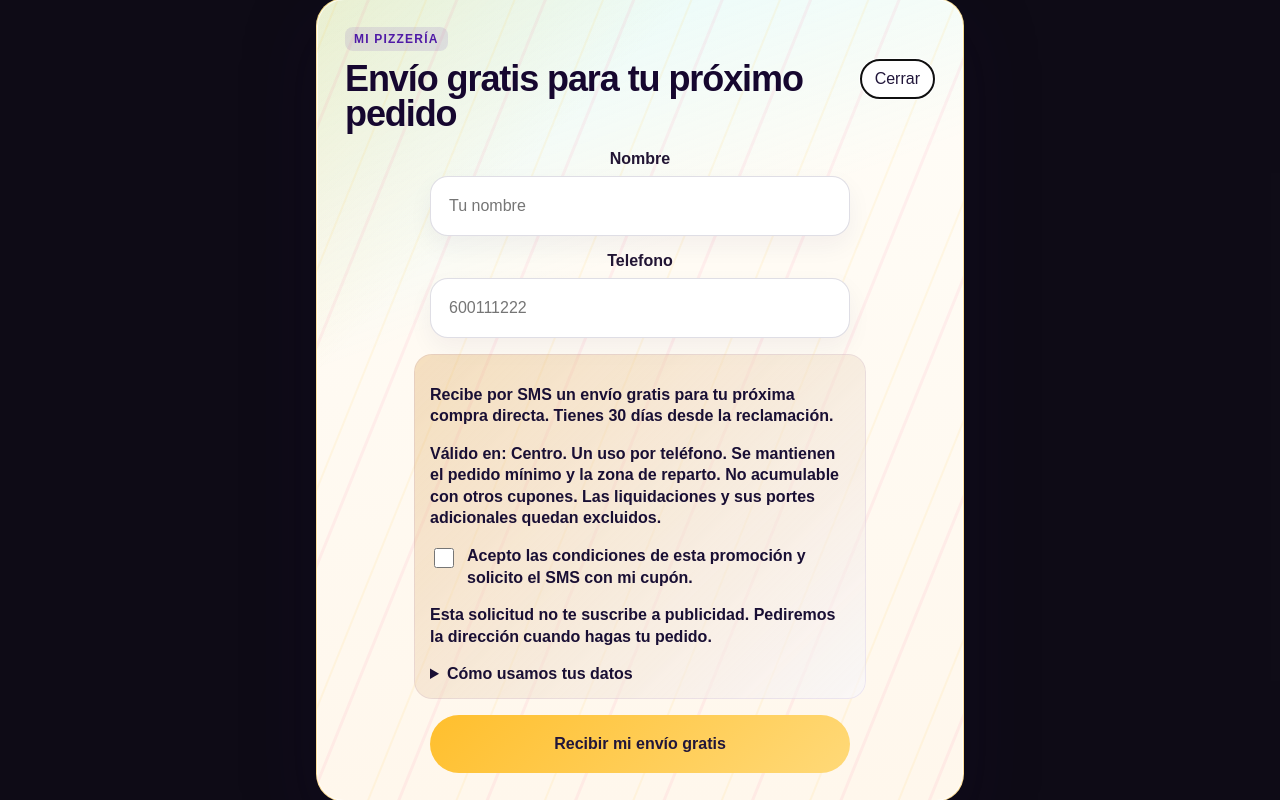
confirmation distinguishes the actual SMS outcome: {"sent":true,"sentNow":false,"status":"delivered"}
The image size is (1280, 800).
Type "Ana" into the field labelled "Nombre".
click(640, 206); type("Ana")  # box [430,176,850,236]
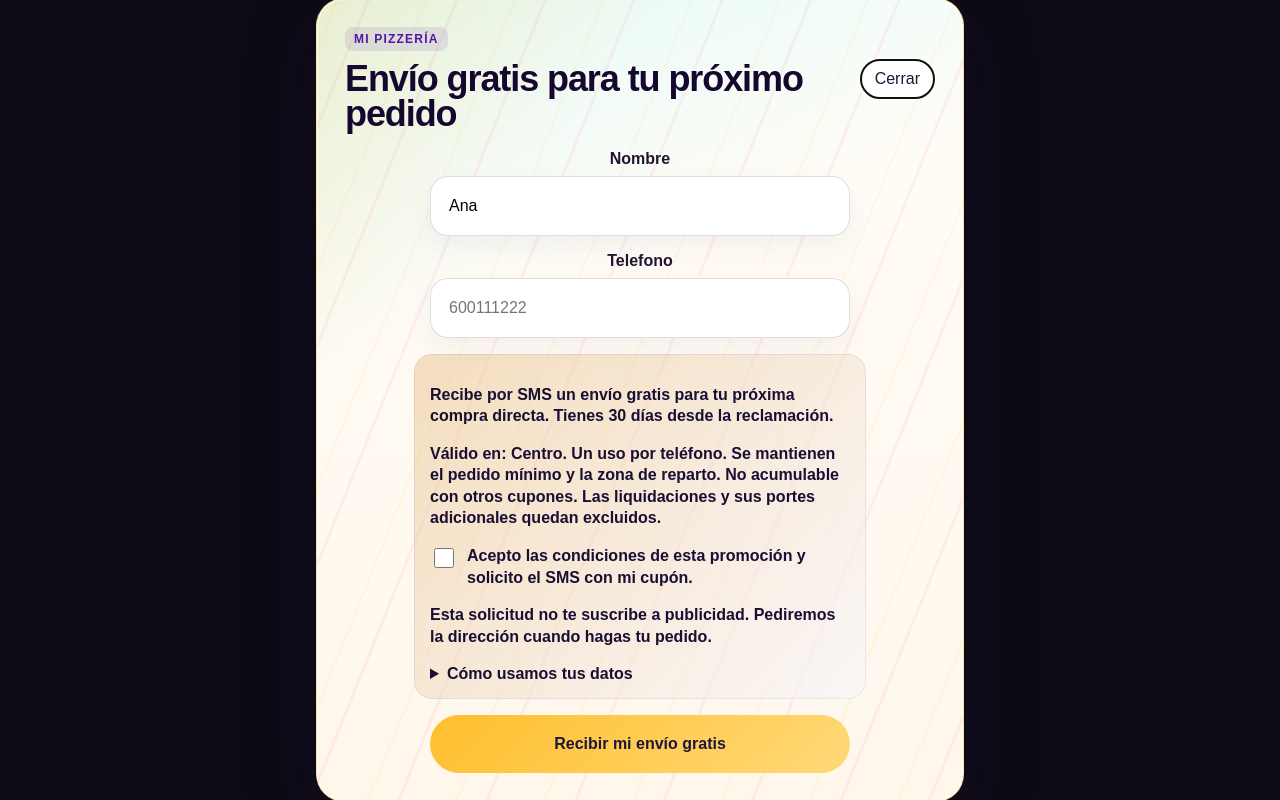
Type "600123456" into the field labelled "Telefono".
click(640, 308); type("600123456")  # box [430,278,850,338]
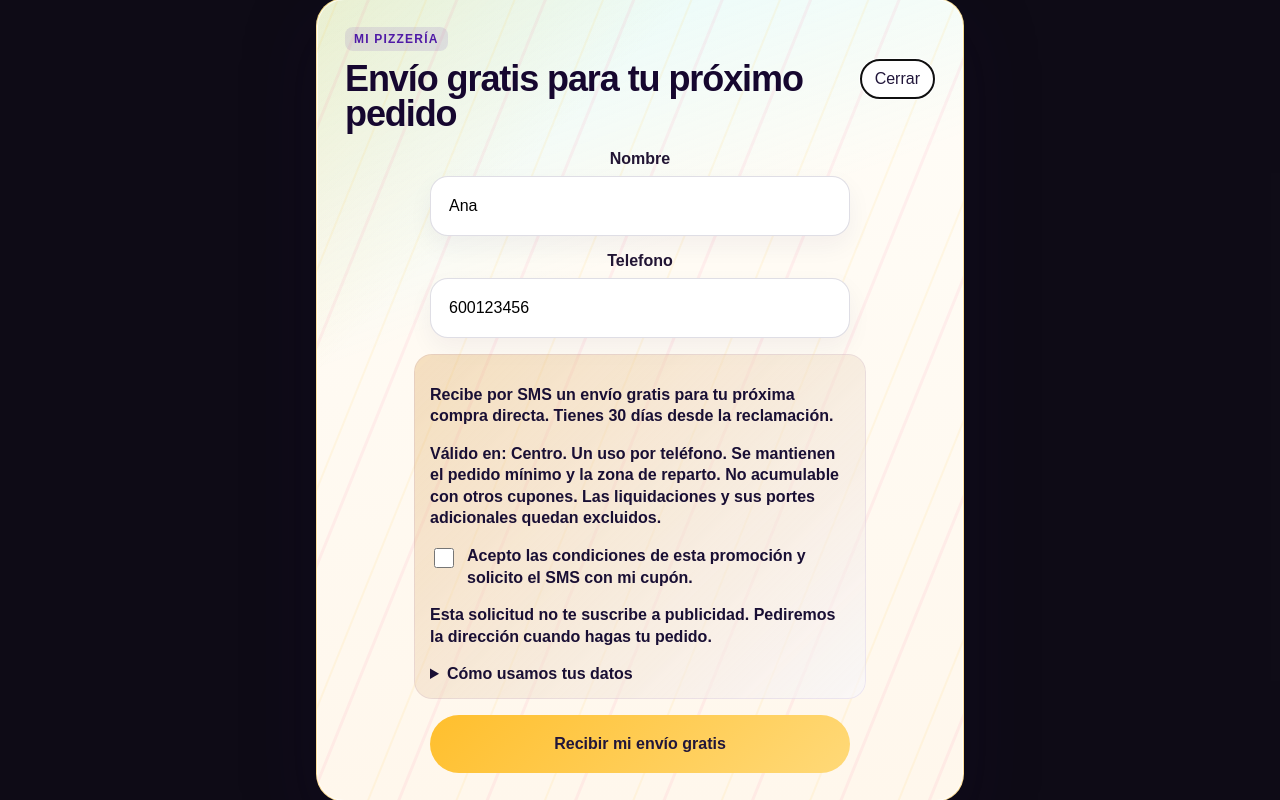
Click the checkbox.
click(444, 558)  # box [434,548,454,568]
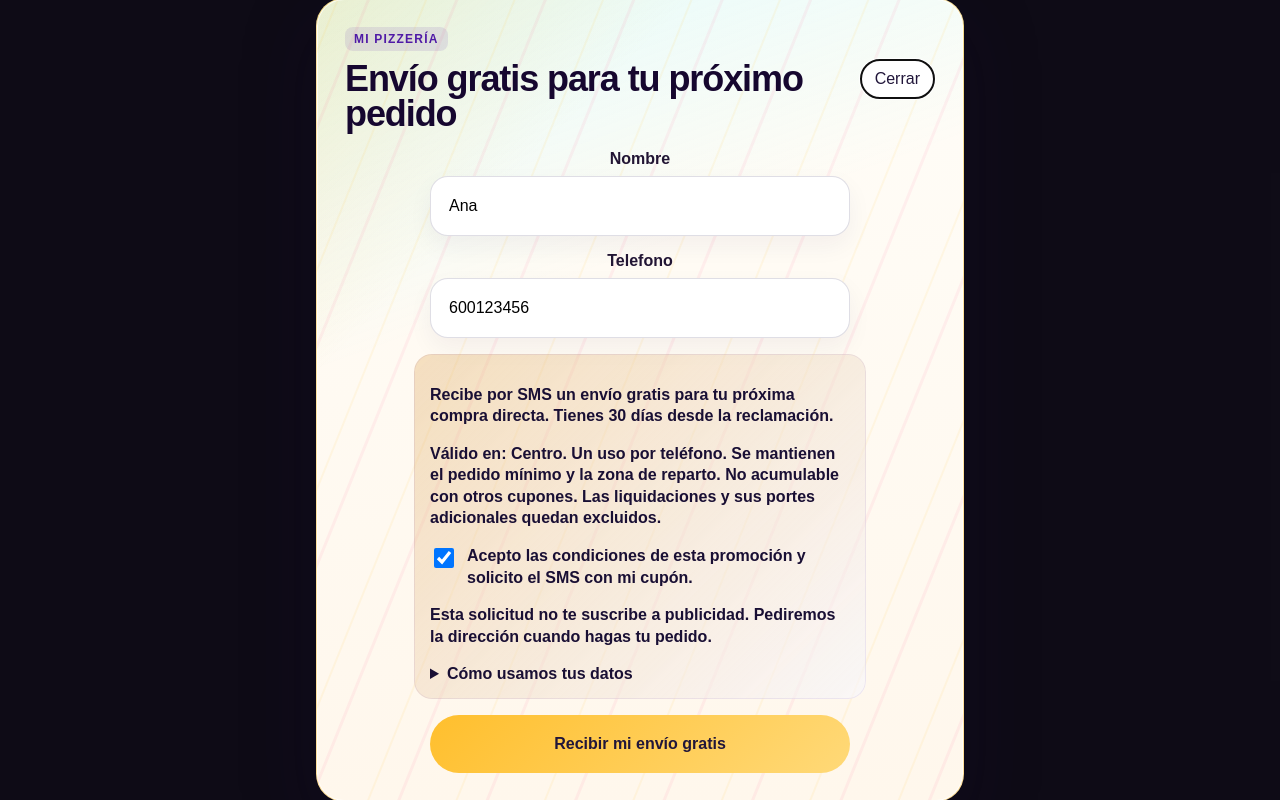
Click the button "Recibir mi envío gratis".
click(640, 744)  # box [430,715,850,773]
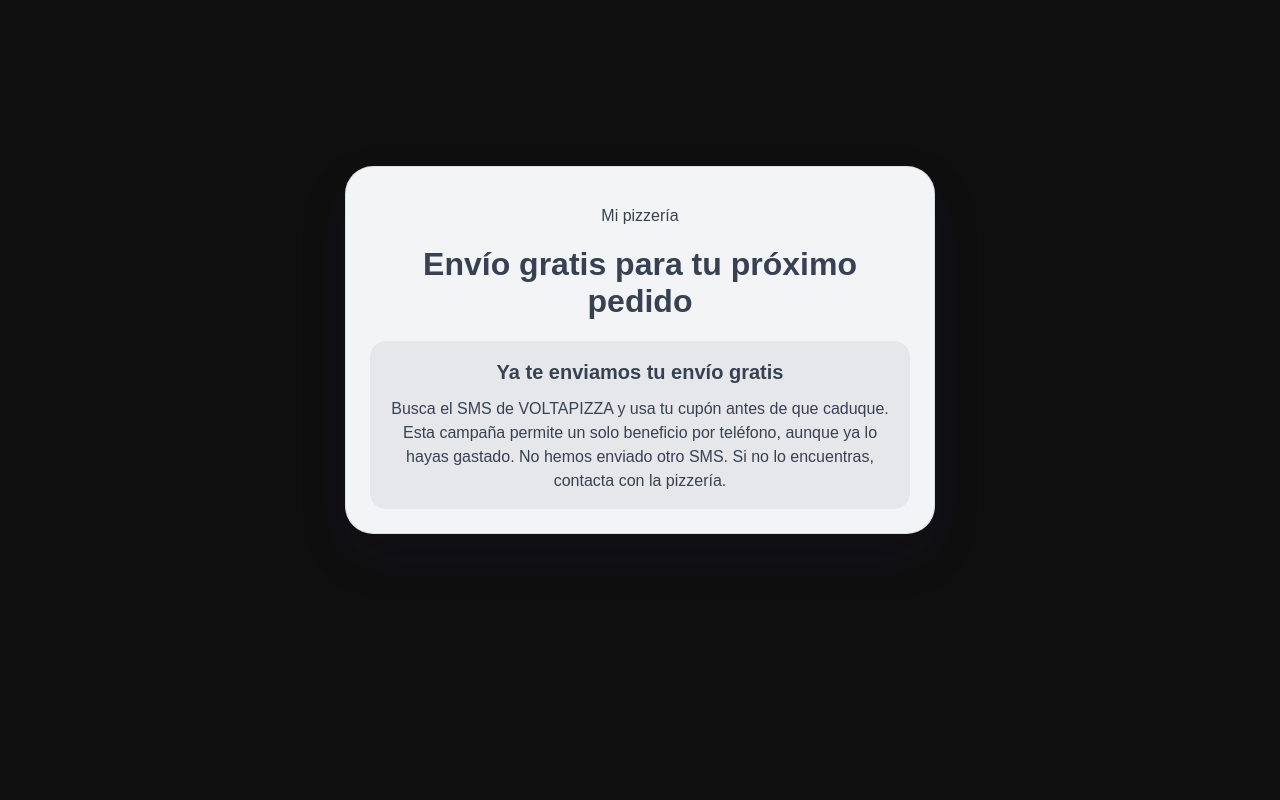
Expected: the heading "Ya te enviamos tu envío gratis" is shown, [497,361,783,383]
Expected: the message shows "un solo beneficio por teléfono, aunque ya lo hayas gastado", [391,400,889,489]
Expected: the button "Recibir mi cupón por SMS" is gone
